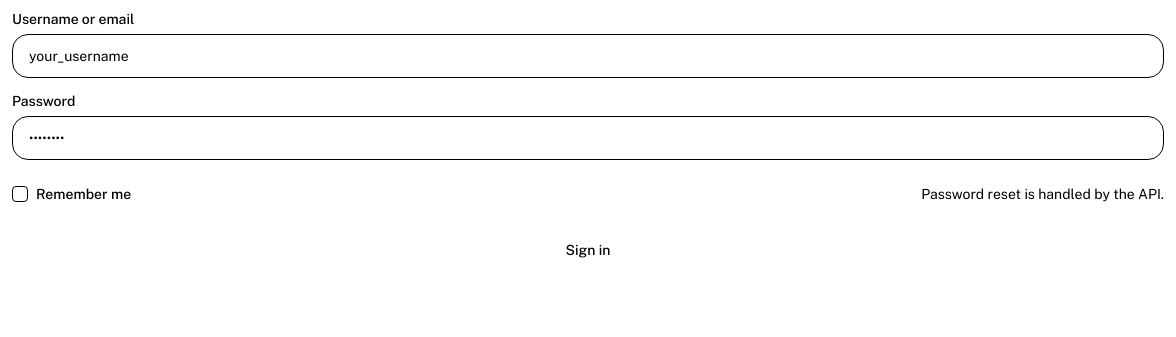
LoginForm › shows a fallback error when signIn returns no response
Type "alice" into the field labelled "Username or email" at (588, 56), box [12,34,1164,78]
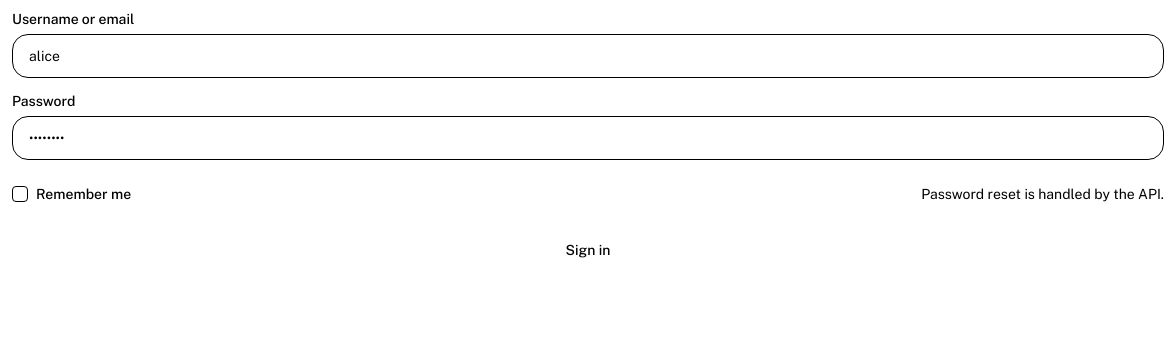
Type "secret" into the password field labelled "Password" at (588, 138), box [12,116,1164,160]
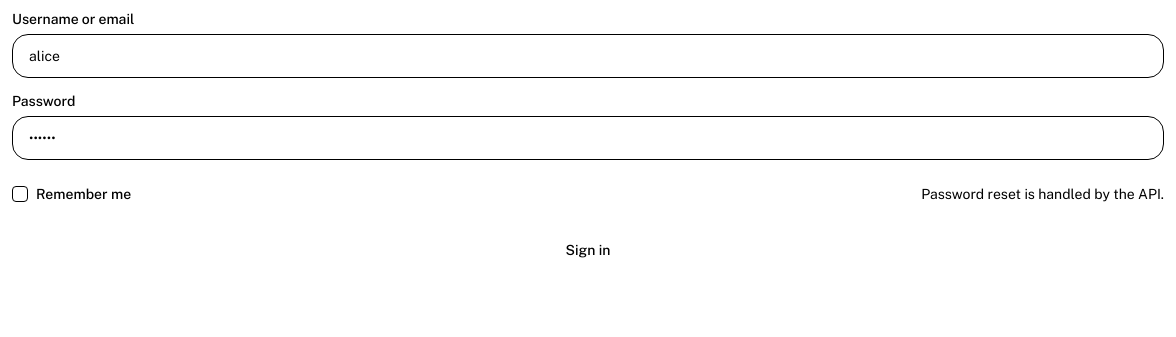
Click the button "Sign in" at (588, 250), box [12,228,1164,272]
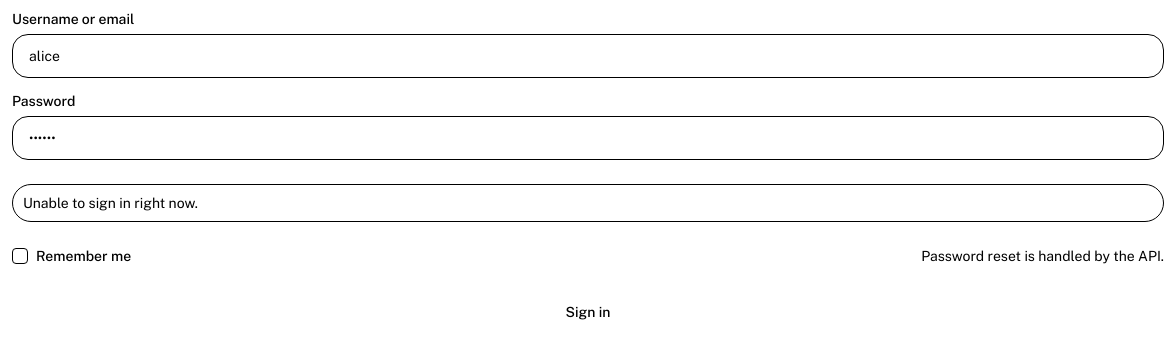
expect the text "Unable to sign in right now." is shown: met, box [23,195,198,211]
